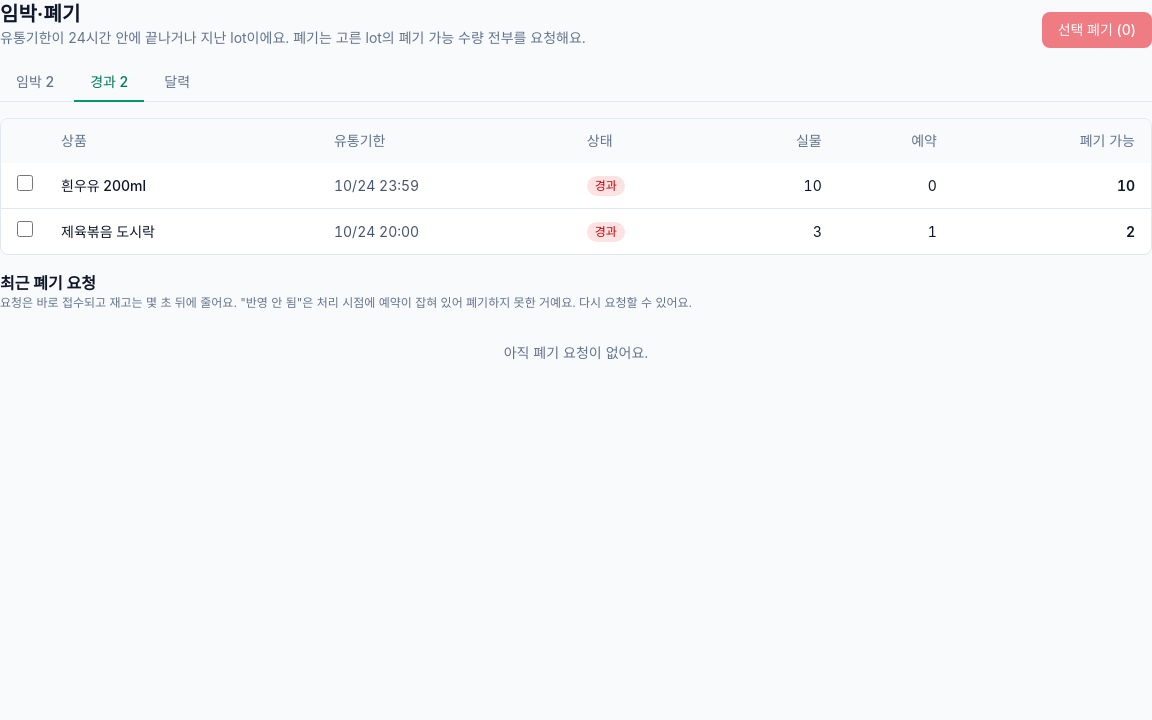
it: 유통기한 관리 (S-30·S-32) › 취소하면 요청하지 않고 선택을 그대로 둔다
The width and height of the screenshot is (1152, 720).
Click the checkbox named "흰우유 200ml 선택" at (25, 183), box [17,175,33,191]
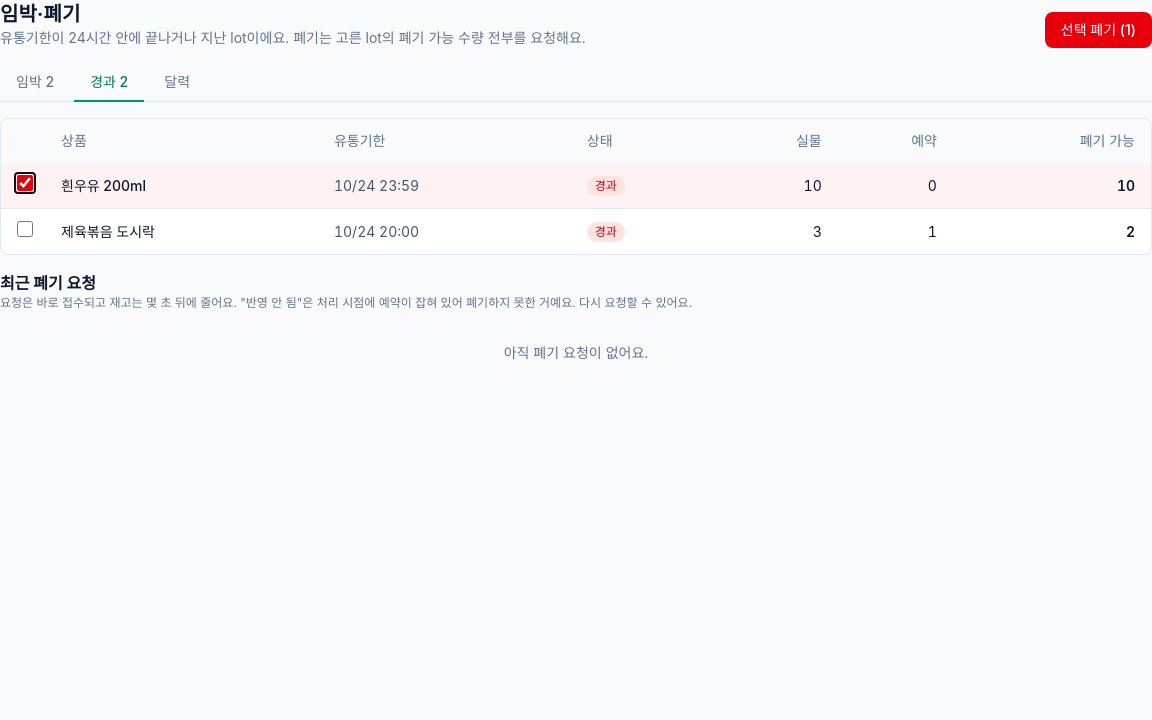
Click the button "선택 폐기 (1)" at (1098, 30), box [1045,12,1151,48]
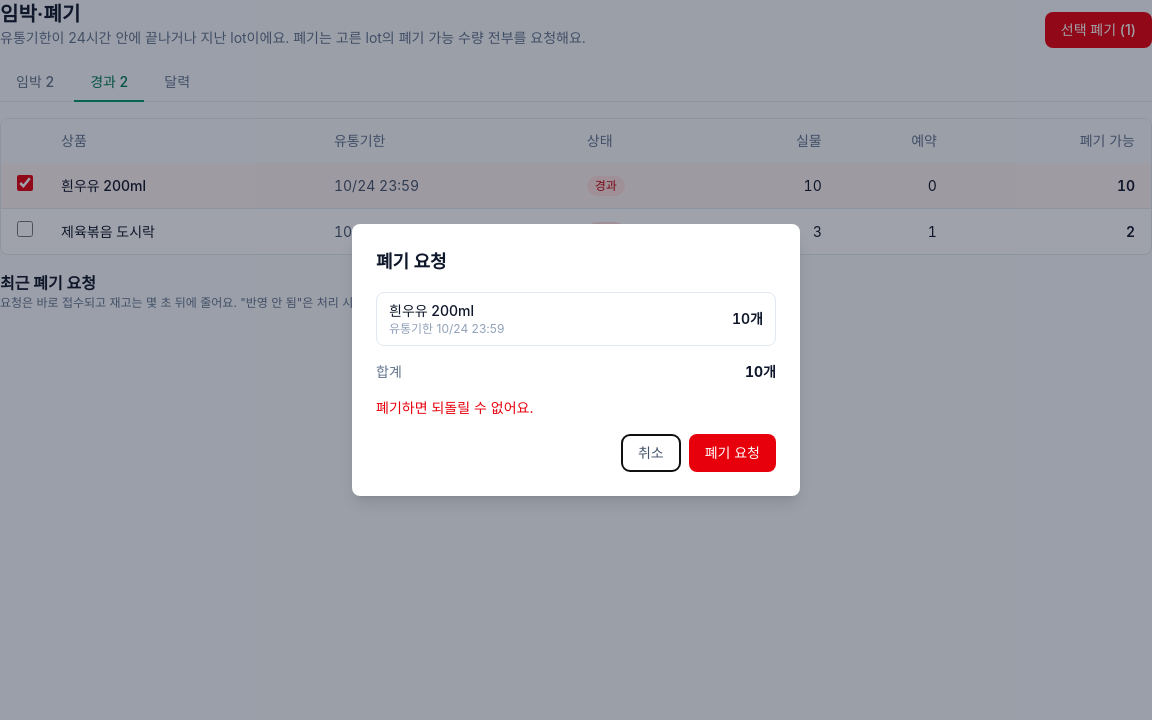
Click the button "취소" at (651, 453), box [621,434,681,472]
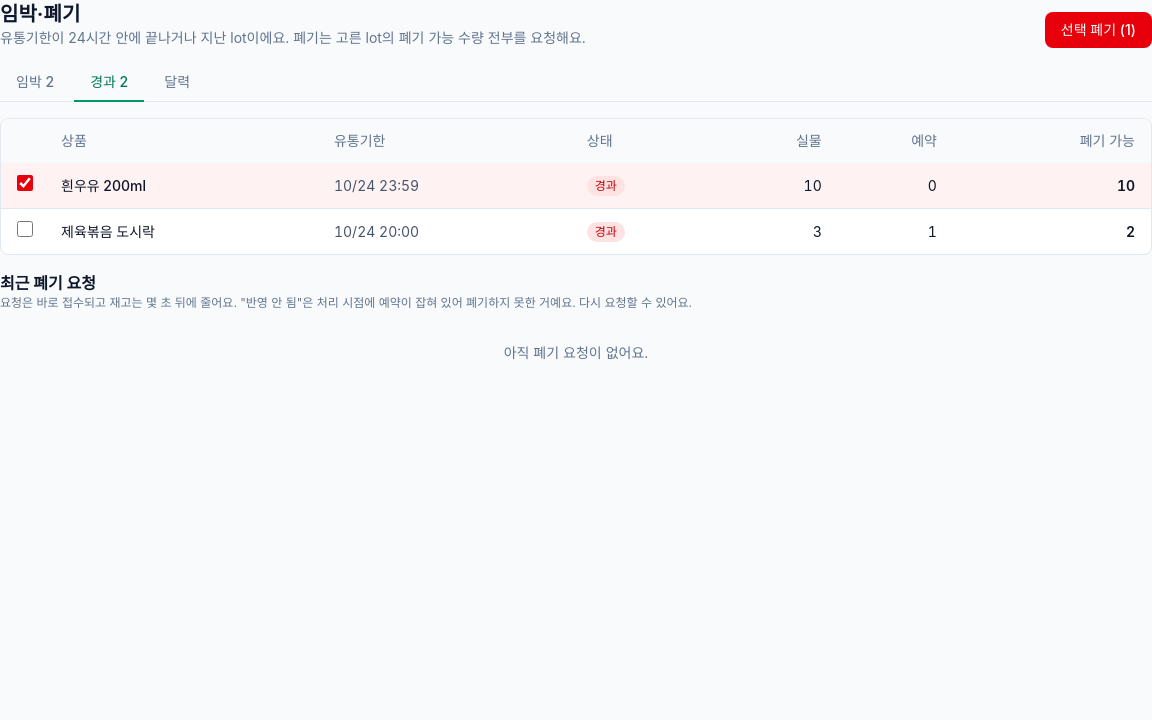
Expected: the button "선택 폐기 (1)" is shown, [1045,12,1151,48]
Expected: the dialog is gone
